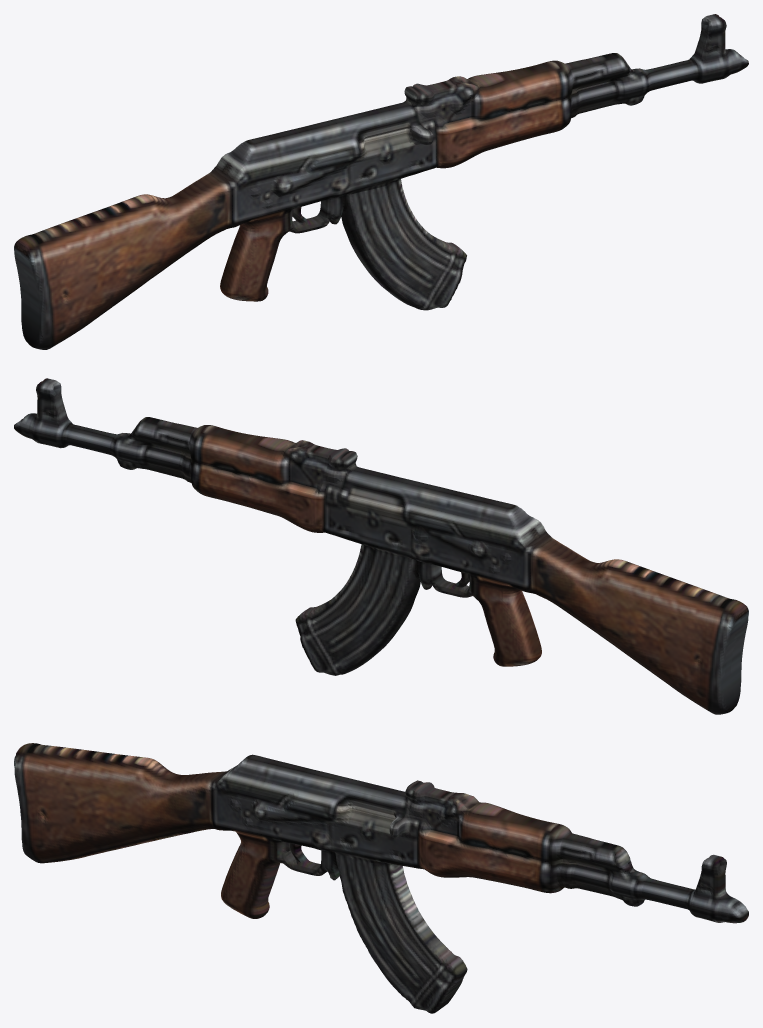
The model's file is kestrel-harrier-two-side-candidate-v2.glb.
3 renders of one model, top to bottom at view 1: azimuth 30°, elevation 25°; view 2: azimuth 150°, elevation 25°; view 3: azimuth 330°, elevation 25°, orthographic.
Visible parts, largest first — view 1: geometry_0; view 2: geometry_0; view 3: geometry_0.
Boxes of the visible parts, x1,y1,x2,y2 form: geometry_0: (14,14,748,349); geometry_0: (14,378,748,714); geometry_0: (14,743,748,1013).
Bounding box in the file's own units: 1.99 × 0.5753 × 0.1549.
1 material, 1 textured.
